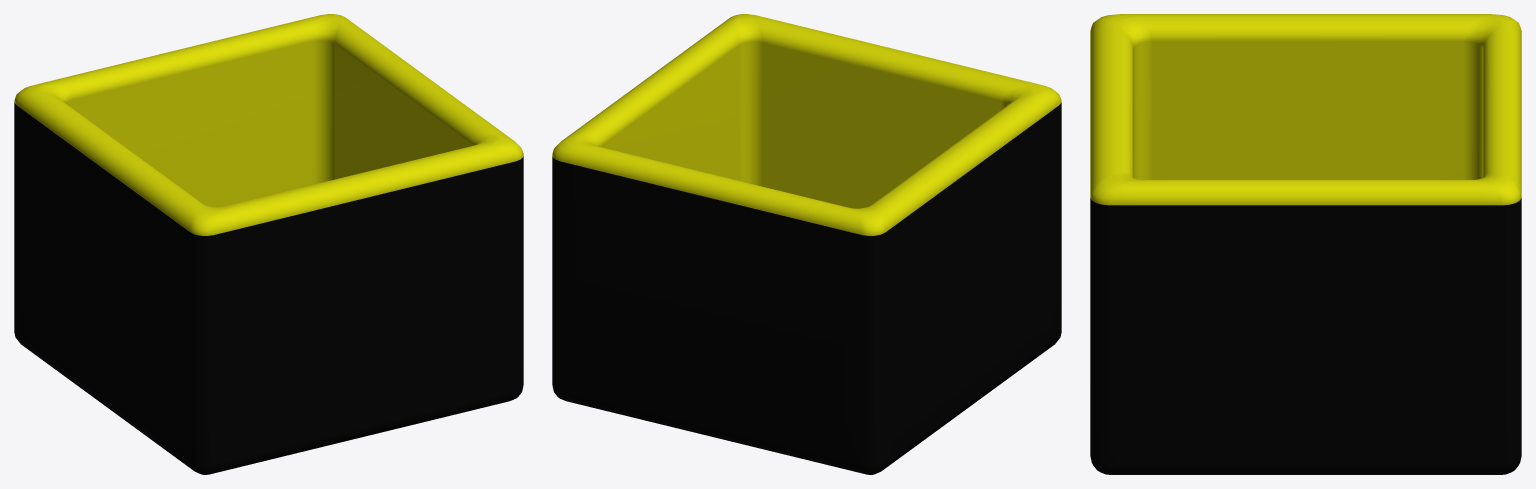
File: GridSingle.fbx
The picture shows the model from 3 angles, left to right: view 1: azimuth 30°, elevation 25°; view 2: azimuth 150°, elevation 25°; view 3: azimuth 270°, elevation 25°; orthographic projection. The views are drawn at different scales.
Parts seen in each view (by area): view 1: Grid_low; view 2: Grid_low; view 3: Grid_low.
Part boxes in pixels (x1,y1,x2,y2): Grid_low: (14, 14, 523, 474); Grid_low: (552, 14, 1061, 474); Grid_low: (1090, 14, 1521, 474).
Bounding box in the file's own units: 3.08 × 2.3 × 3.08.
